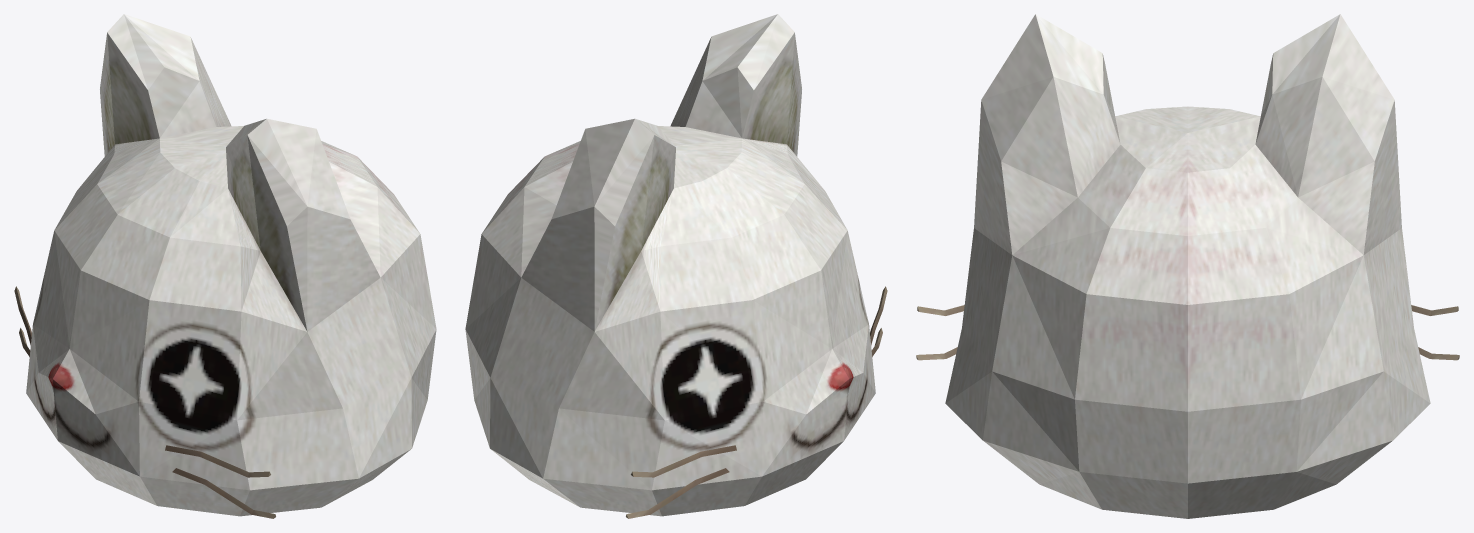
File: Cat_catHead.obj
The picture shows the model from 3 angles, left to right: view 1: azimuth 30°, elevation 25°; view 2: azimuth 150°, elevation 25°; view 3: azimuth 270°, elevation 25°; orthographic projection. The views are drawn at different scales.
Visible parts, largest first — view 1: Cat_catHead_tri; view 2: Cat_catHead_tri; view 3: Cat_catHead_tri.
Part boxes in pixels (bbox=[...]): Cat_catHead_tri: bbox=[14, 14, 436, 518]; Cat_catHead_tri: bbox=[465, 14, 887, 518]; Cat_catHead_tri: bbox=[916, 14, 1459, 518].
Size of the model in its own units: 0.4088 by 0.4571 by 0.5097.
1 material, 1 textured.
